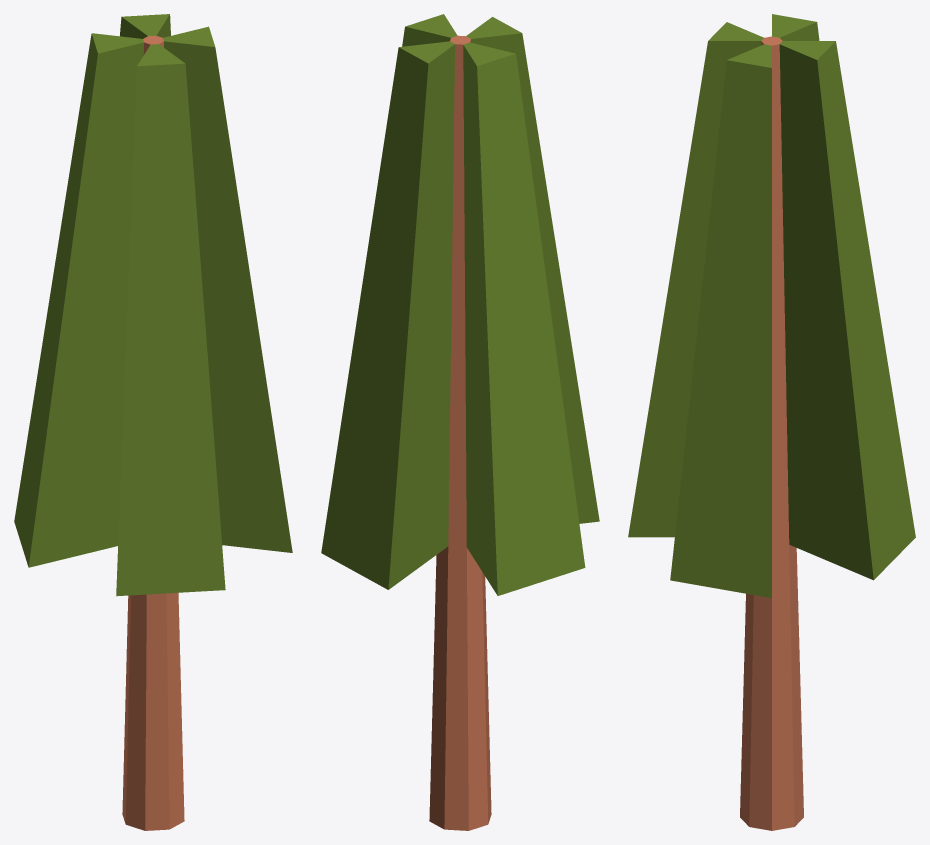
File: Tree_28_autumn_mat.fbx
3 views of the same model, side by side, from view 1: azimuth 30°, elevation 25°; view 2: azimuth 150°, elevation 25°; view 3: azimuth 270°, elevation 25° (orthographic).
Parts seen in each view (by area): view 1: Tree_28_autumn_mat; view 2: Tree_28_autumn_mat; view 3: Tree_28_autumn_mat.
Boxes of the visible parts, x1,y1,x2,y2 form: Tree_28_autumn_mat: (14,14,292,830); Tree_28_autumn_mat: (321,14,599,830); Tree_28_autumn_mat: (628,14,915,830).
Size of the model in its own units: 396 by 1178 by 396.
